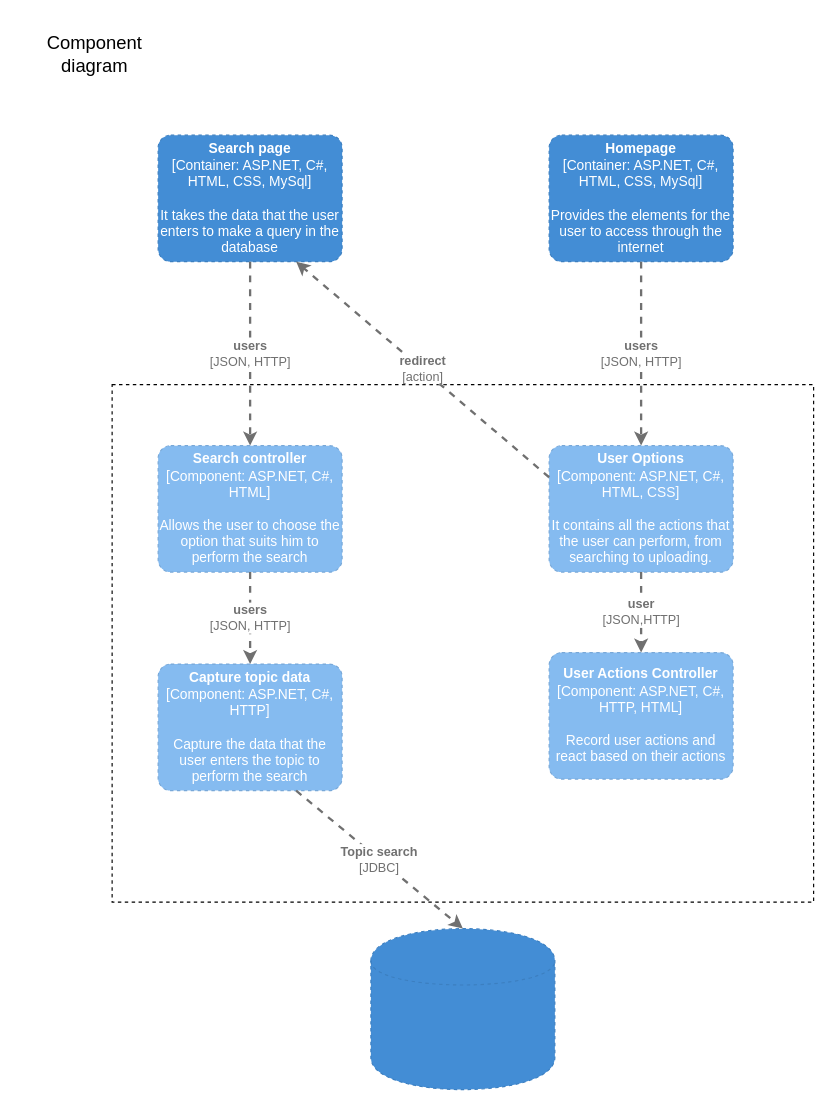
This 834x1110 diagram has some shape labels left out. The shapes that lost their labels are listed below. From the top down, each one's box as (x1, y1, x2, y2) in pixels, then its label:
(111, 384, 814, 902): API application [Software System]
(370, 927, 555, 1090): Database [Container: MySQL] Stores topics, attachments and user data
